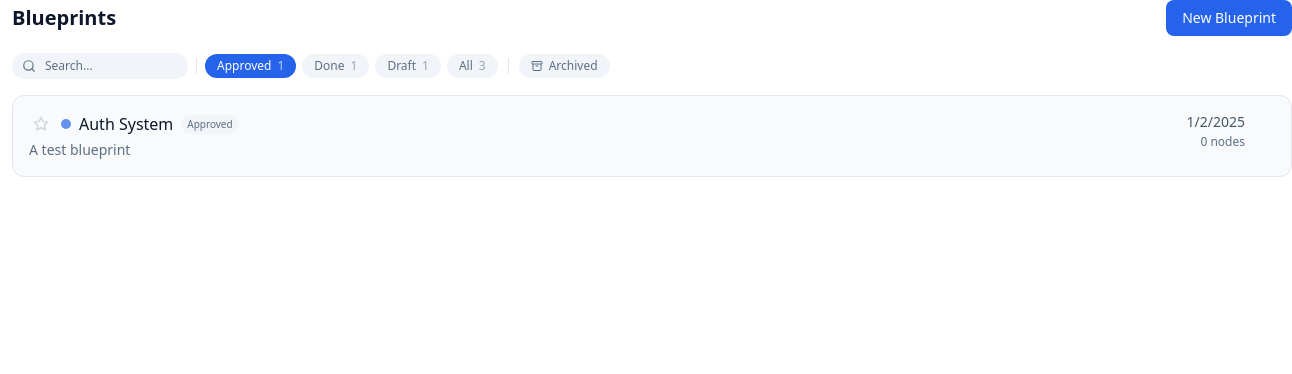
BlueprintsPage › filters by status when clicking status chips
This screenshot has width=1292, height=374.
Expected: the text "Auth System" is shown, [79,112,173,136]
Expected: the text "Dashboard UI" is not shown
# Click "All" status filter to see all
Click the button "All3". click: point(472, 66)
box: [447,54,498,78]
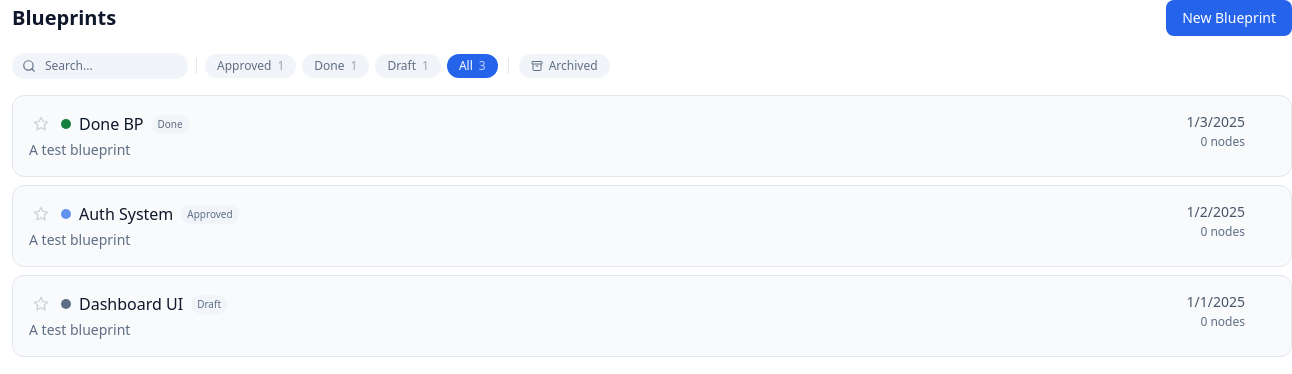
Expected: the text "Auth System" is shown, [79,202,173,226]
Expected: the text "Dashboard UI" is shown, [79,292,183,316]
Expected: the text "Done BP" is shown, [79,112,144,136]
